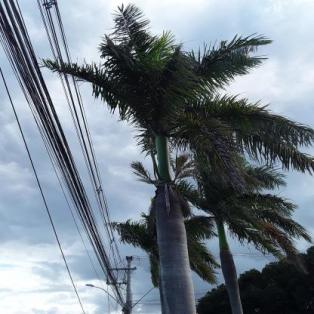Poste: (124, 256, 134, 314)
